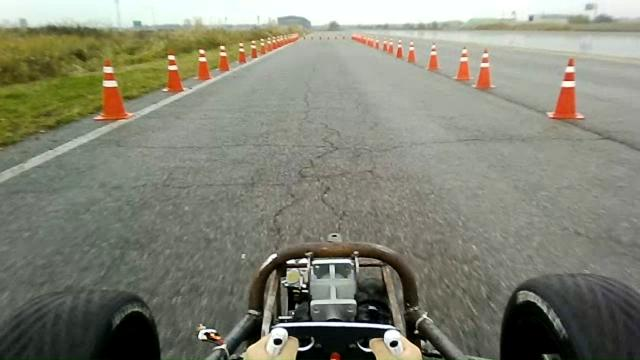red cone: (93, 58, 134, 121), (546, 57, 584, 120), (472, 47, 496, 90), (162, 49, 184, 92), (452, 46, 472, 81), (194, 48, 212, 80), (215, 44, 230, 72), (426, 44, 440, 73), (237, 41, 247, 64), (407, 41, 417, 62), (395, 38, 404, 59), (250, 39, 258, 58), (259, 38, 267, 54)
